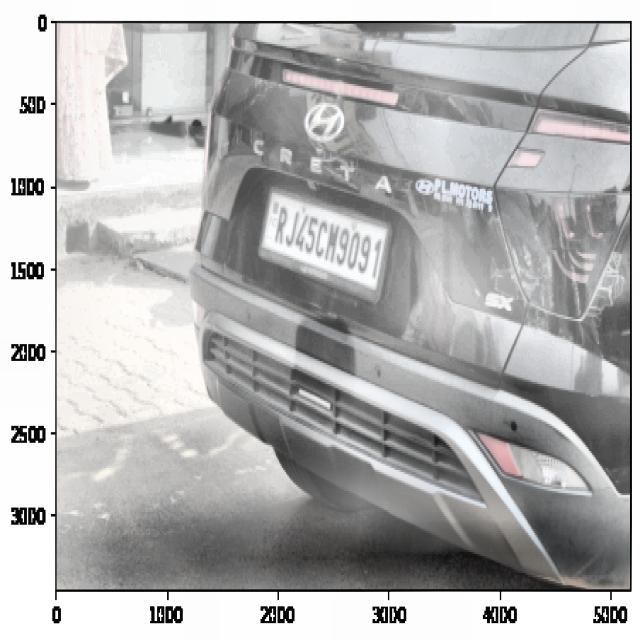license_plate: (271, 199, 384, 282)
